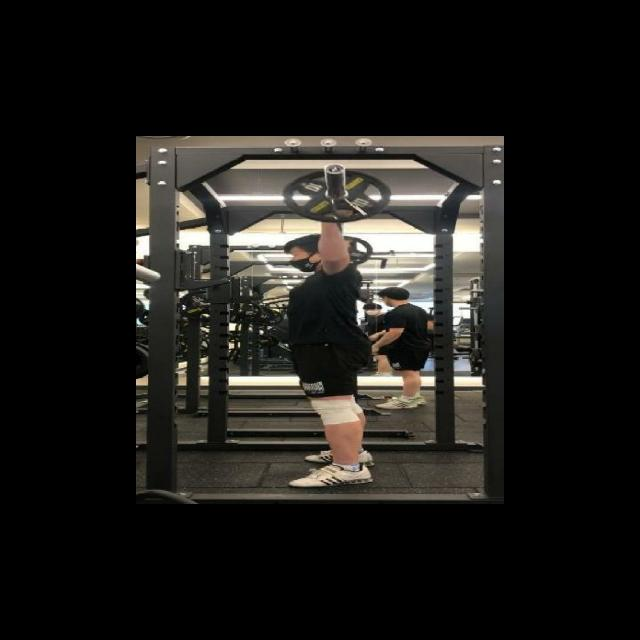barbell: (273, 165, 393, 225)
